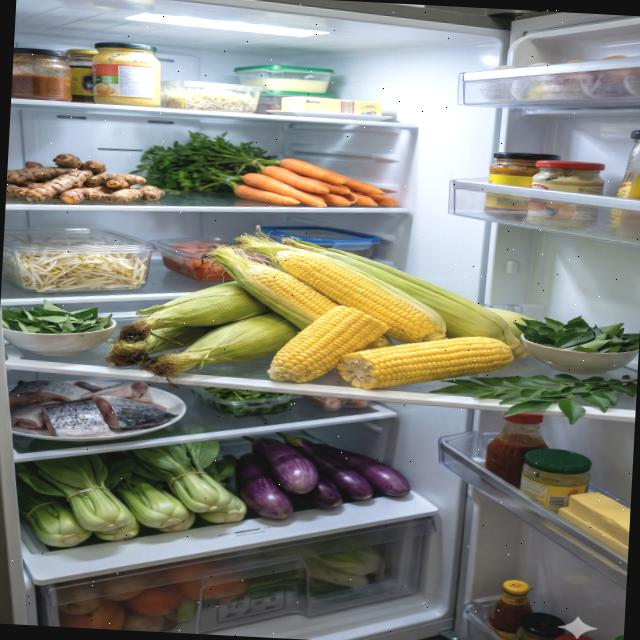bean_sprouts: (1, 232, 149, 298)
carrot: (233, 156, 400, 212)
corn: (102, 216, 542, 399)
curry_leaves: (427, 364, 638, 429), (511, 312, 640, 356), (0, 297, 114, 337)
eggplant: (232, 429, 414, 527)
fish: (6, 374, 180, 443)
pakchoy: (10, 428, 252, 558)
turmeric: (6, 150, 168, 210)
